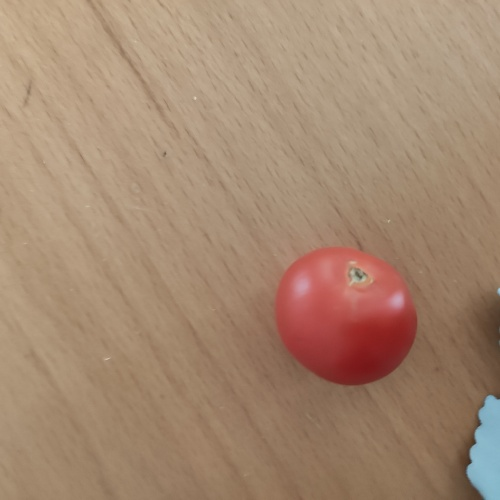pomodoro: (271, 237, 425, 393)
